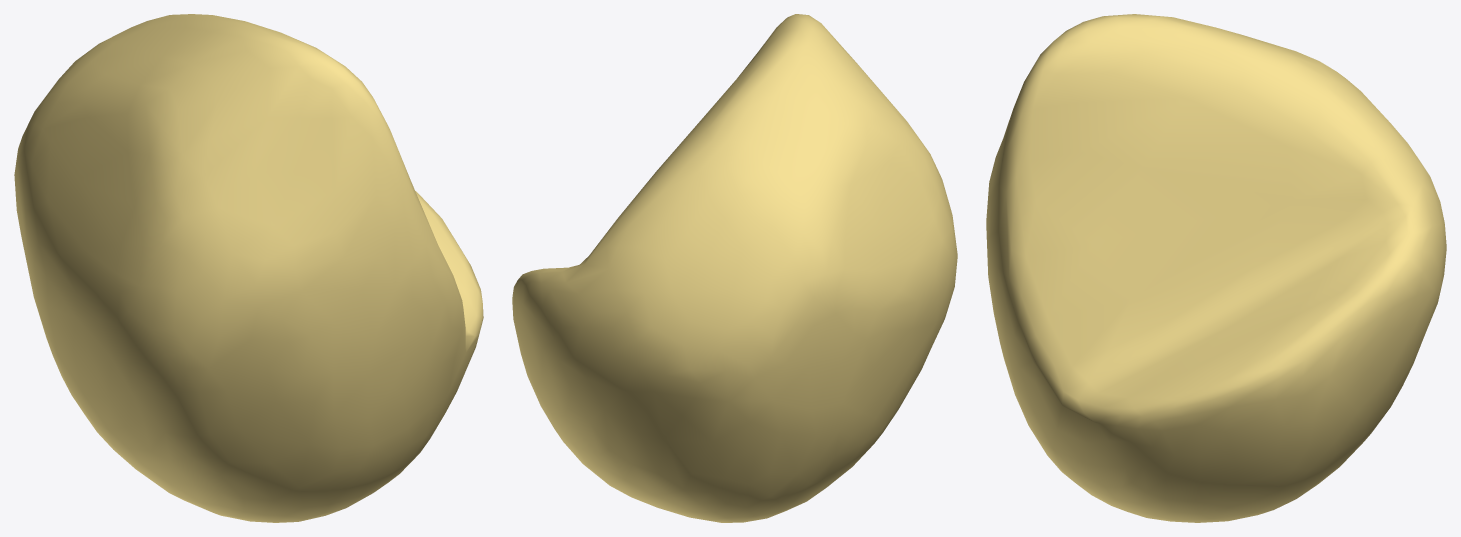
The model's file is fma73348_mm2963.glb.
3 views of the same model, side by side, from view 1: azimuth 30°, elevation 25°; view 2: azimuth 150°, elevation 25°; view 3: azimuth 270°, elevation 25° (orthographic). The views are drawn at different scales.
Visible parts, largest first — view 1: FMA73348_MM2963; view 2: FMA73348_MM2963; view 3: FMA73348_MM2963.
Part boxes in pixels (box(x1,y1,x2,y2)): FMA73348_MM2963: box(14, 14, 483, 522); FMA73348_MM2963: box(512, 14, 957, 522); FMA73348_MM2963: box(986, 14, 1446, 522).
Size of the model in its own units: 0.00479 by 0.0058 by 0.00518.
